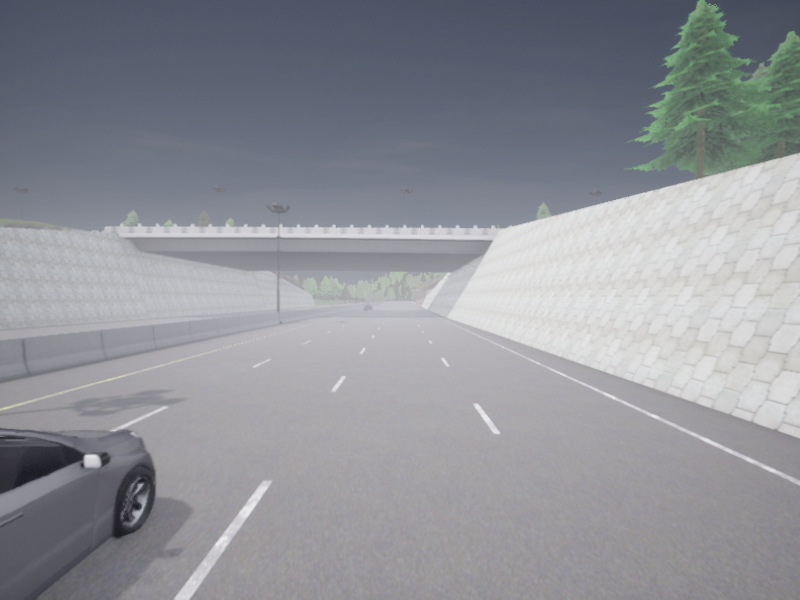vehicle: (0, 428, 154, 599), (364, 304, 373, 310)
